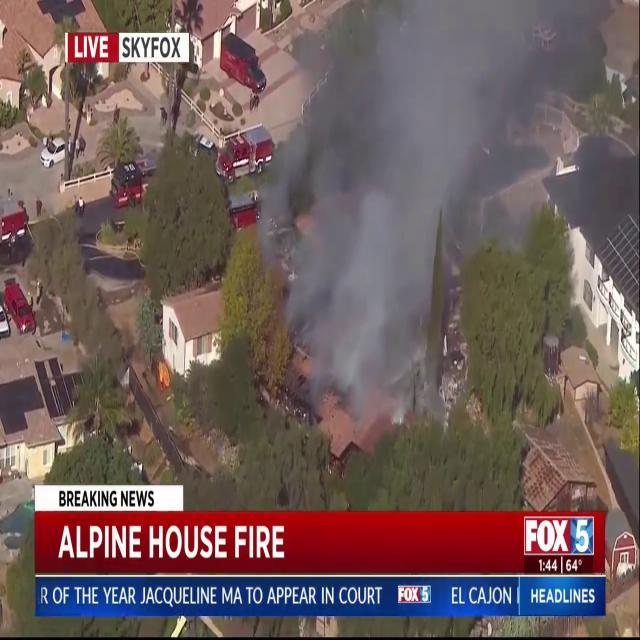Smoke: (262, 0, 548, 432)
